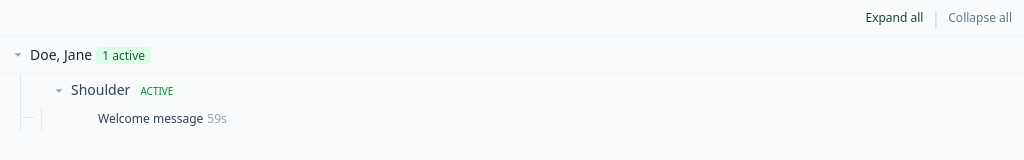
ActivityTree › toggles a patient branch via chevron click
Expected: the text "Shoulder" is shown, [71,80,130,99]
What coordinates should you click on to do the following:
click the button named "Hide Doe, Jane campaigns"
I would click on:
 (18, 55)
Its box is [8,45,28,65].
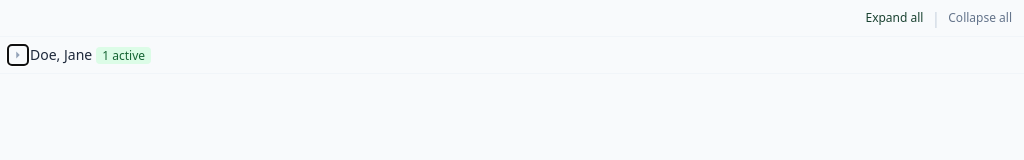
Expected: the button "Shoulder" is gone
